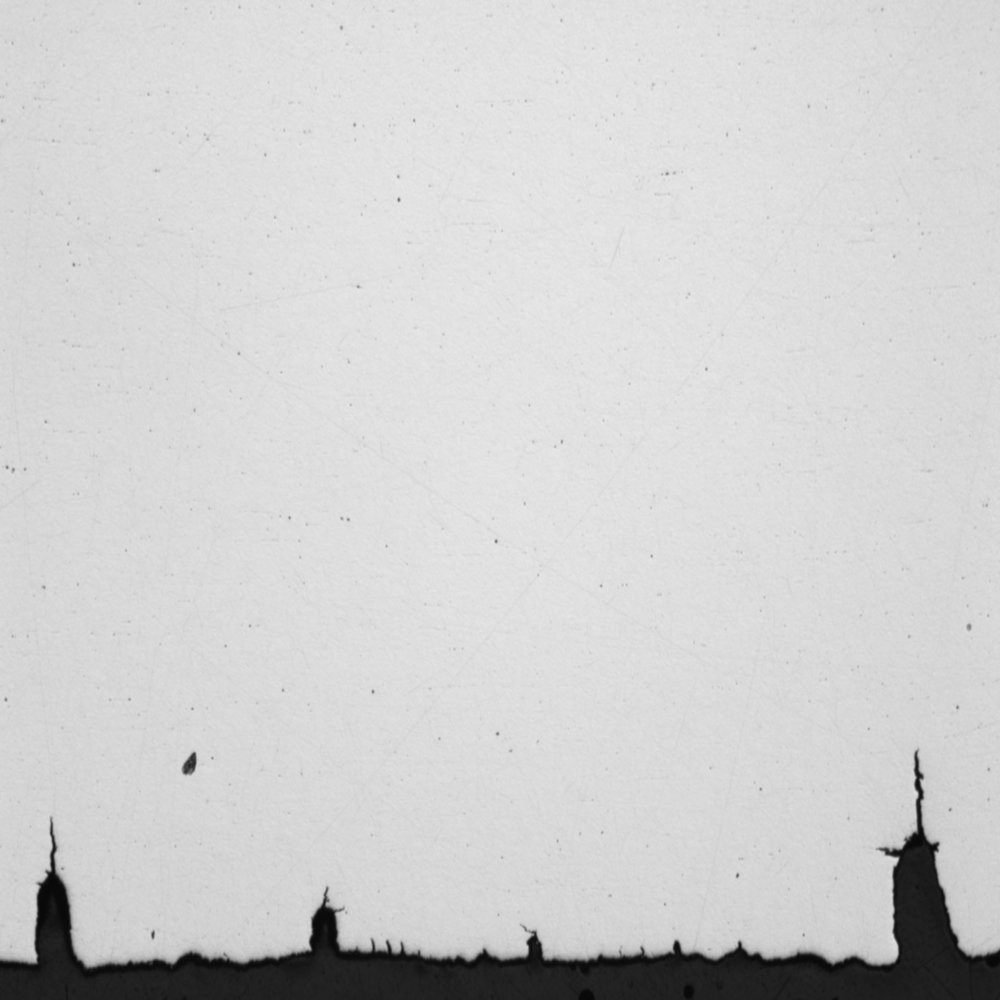crack: (845, 749, 986, 984), (12, 805, 99, 983), (283, 874, 358, 970)
